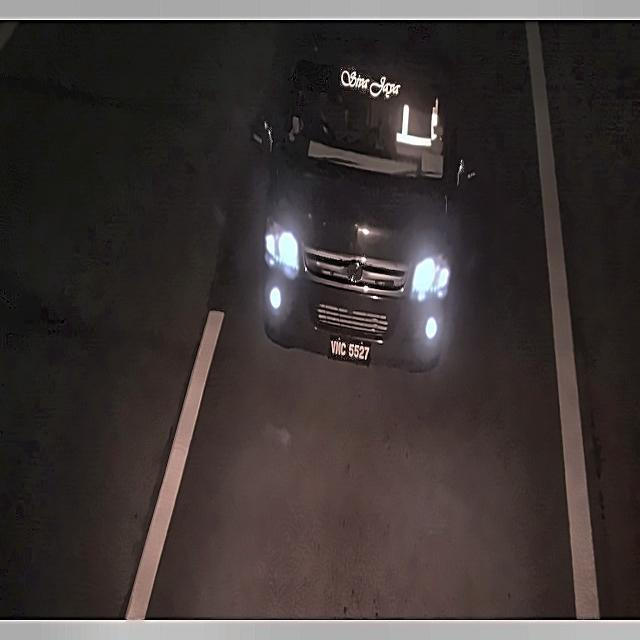car: (325, 329, 374, 370)
